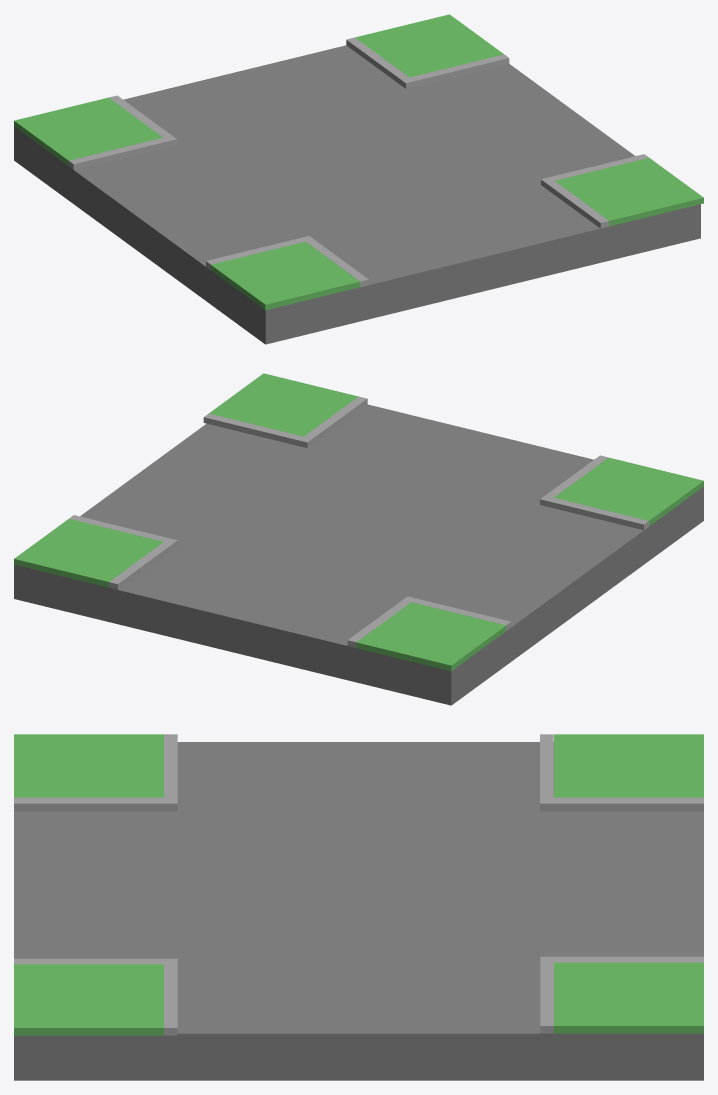
Rendered from intersection_colored.fbx.
The picture shows the model from 3 angles, top to bottom: view 1: azimuth 30°, elevation 25°; view 2: azimuth 150°, elevation 25°; view 3: azimuth 270°, elevation 25°; orthographic projection. The views are drawn at different scales.
Visible parts, largest first — view 1: Ground.002, Cube.011, Cube.005, Cube.012, Cube.015, Cube.014, Cube.013, Cube.009, Cube.010; view 2: Ground.002, Cube.012, Cube.015, Cube.011, Cube.005, Cube.009, Cube.010, Cube.014, Cube.013; view 3: Ground.002, Cube.005, Cube.015, Cube.011, Cube.012, Cube.010, Cube.013, Cube.009, Cube.014.
Boxes of the visible parts, x1,y1,x2,y2 form: Ground.002: (14,45,700,344); Cube.011: (210,241,360,310); Cube.005: (555,158,703,226); Cube.012: (14,97,162,165); Cube.015: (355,14,503,77); Cube.014: (346,37,509,88); Cube.013: (68,95,176,169); Cube.009: (541,154,648,228); Cube.010: (206,236,368,287); Ground.002: (14,404,703,705); Cube.012: (356,602,506,671); Cube.015: (14,519,163,587); Cube.011: (554,457,703,526); Cube.005: (209,373,358,436); Cube.009: (203,396,367,447); Cube.010: (540,455,648,530); Cube.014: (69,515,177,589); Cube.013: (347,596,511,647); Ground.002: (14,742,703,1080); Cube.005: (14,964,163,1035); Cube.015: (554,962,703,1033); Cube.011: (14,734,163,797); Cube.012: (554,734,703,797); Cube.010: (14,734,177,811); Cube.013: (540,734,703,811); Cube.009: (14,958,177,1035); Cube.014: (540,956,703,1033).
Size of the model in its own units: 805 by 70 by 800.
